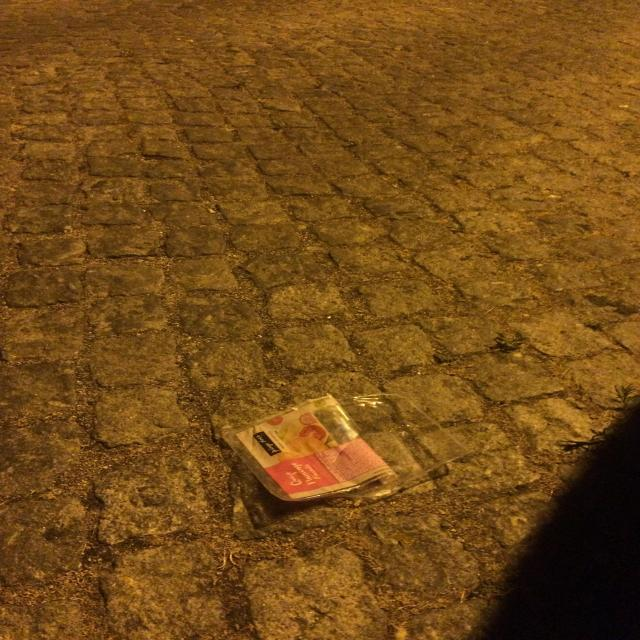Disposable food container: (224, 394, 471, 502)
Plastic film: (223, 395, 397, 501)
